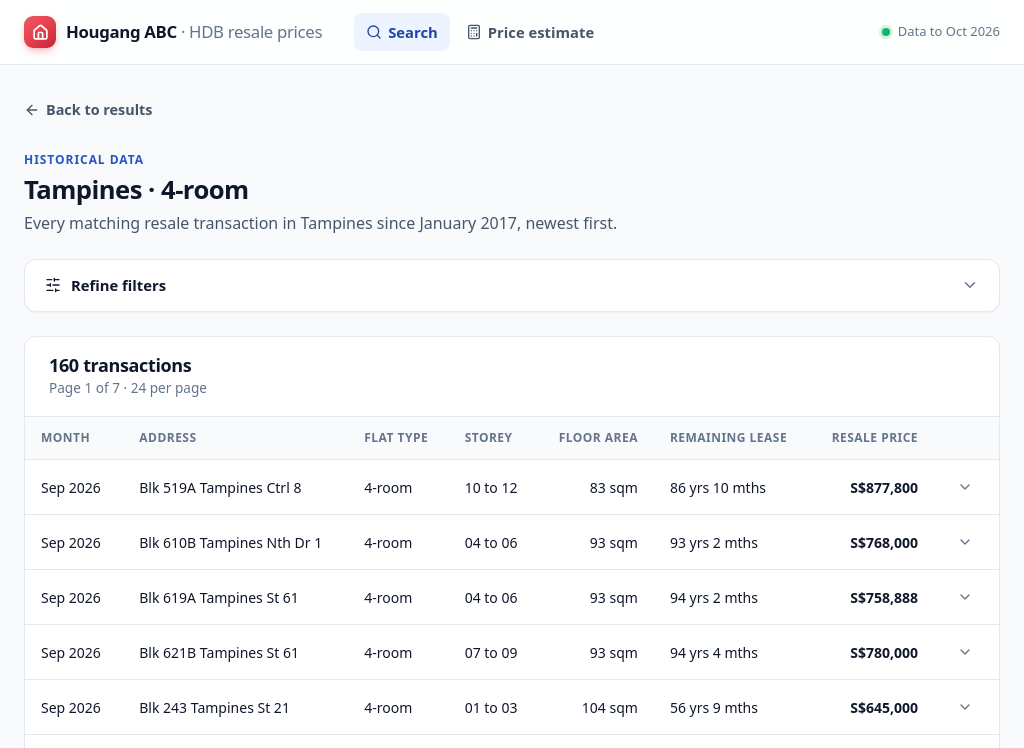
S3 Historical Data Page (UC-4.3) › lists matching transactions and expands a record in place
Click the button named "Show details" in the row of "519A". click: (965, 488)
box: [950, 472, 980, 502]
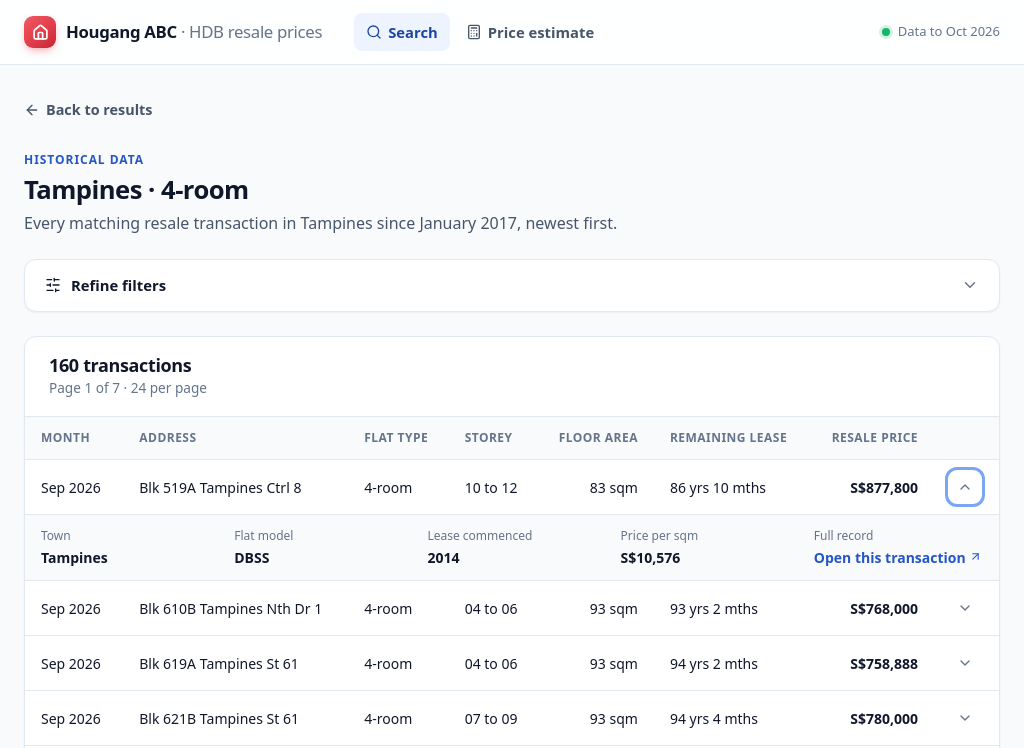
Expected: the text "Lease commenced" is shown, [427, 528, 532, 544]
